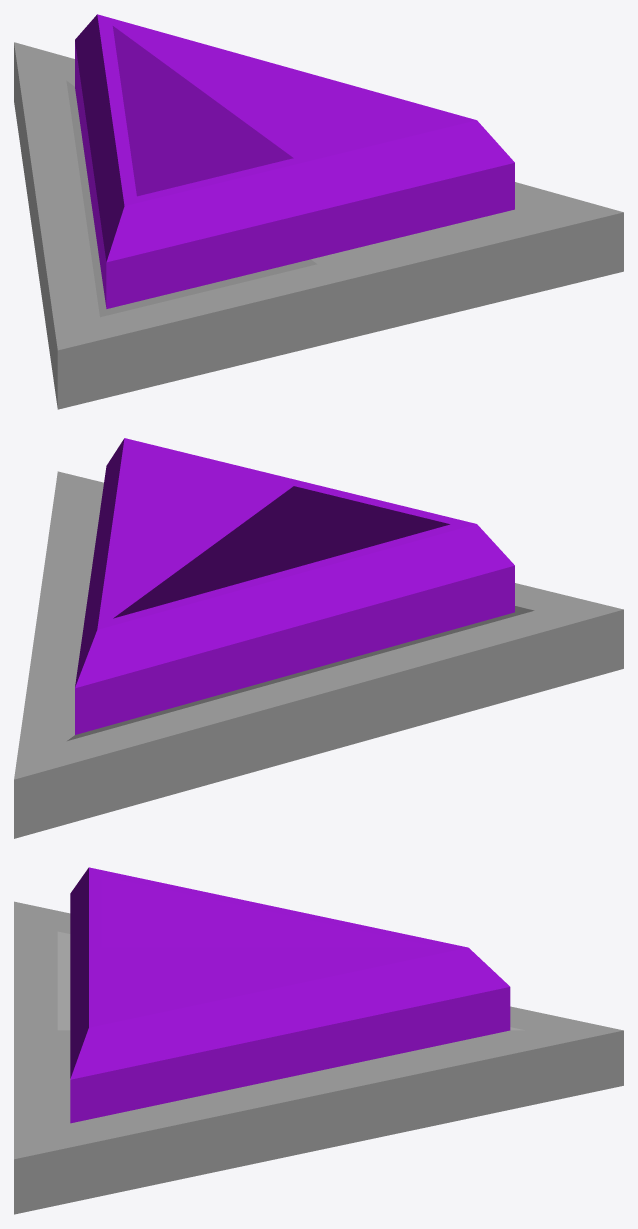
Rendered from PurpleButton.fbx.
3 views of the same model, one above another, from view 1: azimuth 30°, elevation 25°; view 2: azimuth 150°, elevation 25°; view 3: azimuth 270°, elevation 25° (orthographic). The views are drawn at different scales.
Visible parts, largest first — view 1: Plane.001, Plane.005; view 2: Plane.001, Plane.005; view 3: Plane.001, Plane.005.
Boxes of the visible parts, x1=… form: Plane.001: x1=75, y1=14, x2=514, y2=308; Plane.005: x1=14, y1=42, x2=623, y2=409; Plane.001: x1=75, y1=438, x2=514, y2=734; Plane.005: x1=14, y1=471, x2=623, y2=838; Plane.001: x1=70, y1=867, x2=510, y2=1123; Plane.005: x1=14, y1=901, x2=623, y2=1214.
Bounding box in the file's own units: 200 × 49.98 × 200.
